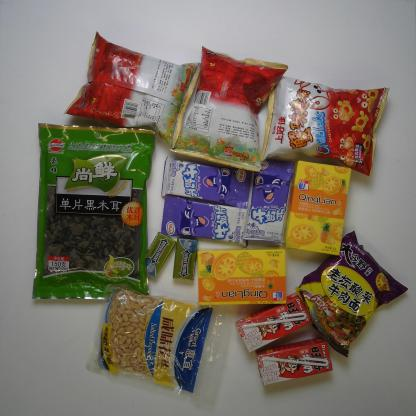Candy: (161, 154, 254, 210), (159, 193, 251, 248), (242, 160, 294, 245)
Dessert: (284, 159, 354, 258), (193, 247, 290, 308)
Dried Food: (30, 121, 158, 303)
Dried Fruit: (81, 280, 224, 398)
Gum: (145, 231, 177, 277), (171, 235, 199, 282)
Instant Noodles: (294, 228, 410, 359)
Milk: (234, 292, 313, 353), (255, 336, 333, 387)
Puffed Food: (62, 29, 203, 152), (166, 44, 288, 174), (259, 74, 391, 178)
